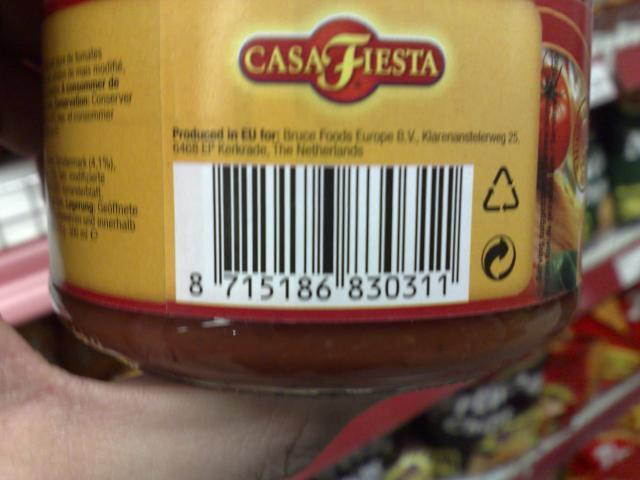Barcode: (173, 162, 470, 305)
